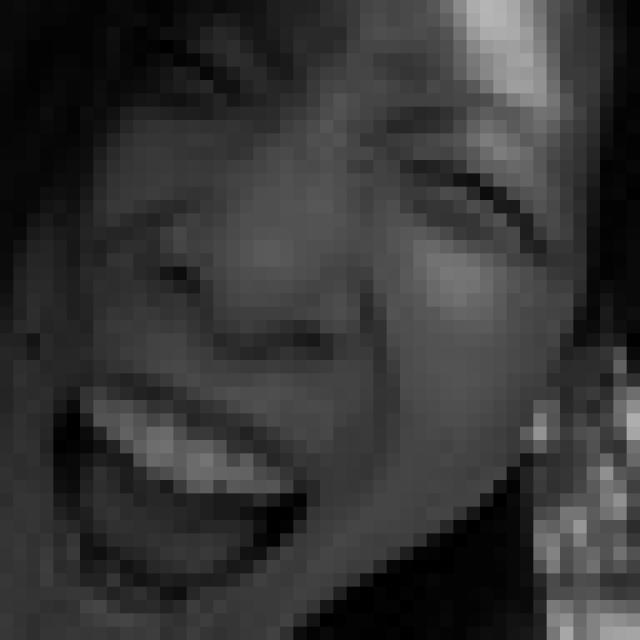angry: (33, 0, 555, 640)
